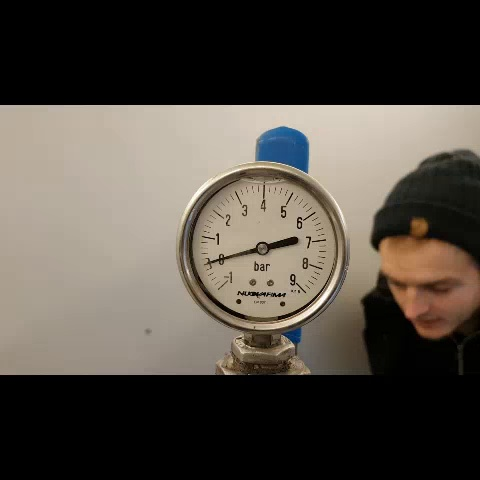Round_Meter: (187, 171, 343, 325)
